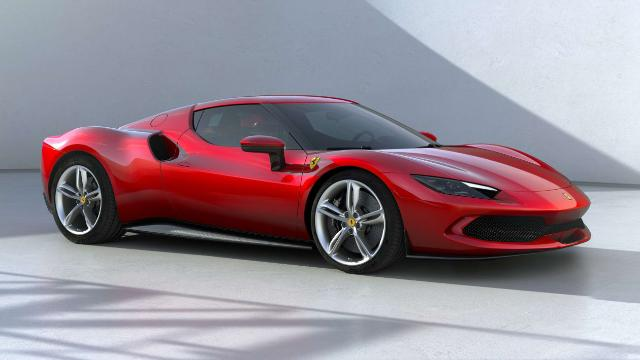ferrari: (40, 94, 592, 274)
